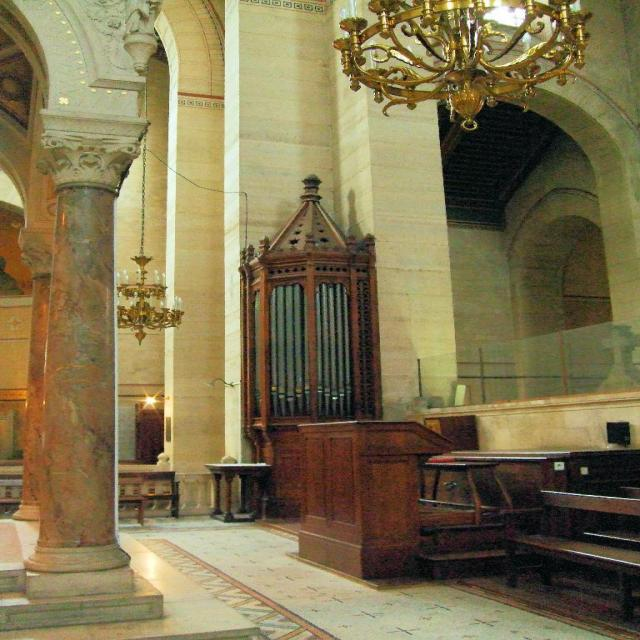table: (452, 451, 626, 563)
